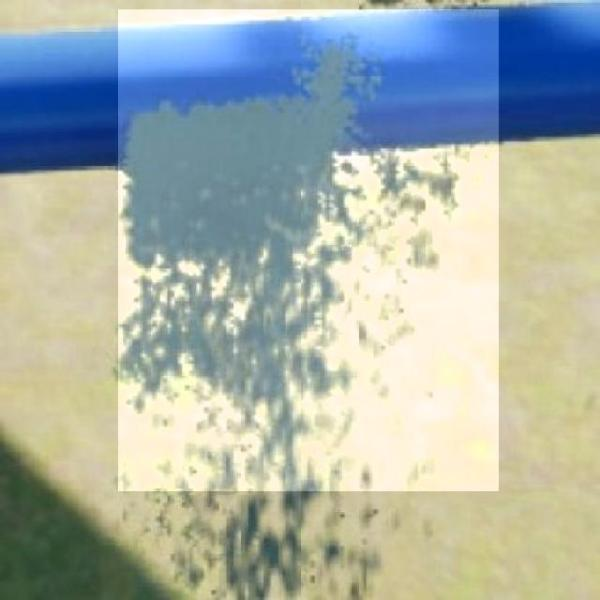gas: (118, 11, 498, 491)
